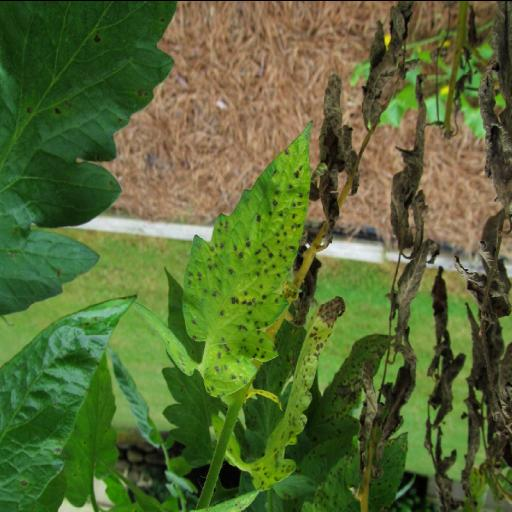disease_tomato: (0, 0, 180, 317), (178, 120, 308, 384), (0, 292, 138, 512), (246, 292, 346, 494), (286, 330, 394, 470), (310, 431, 410, 512)
